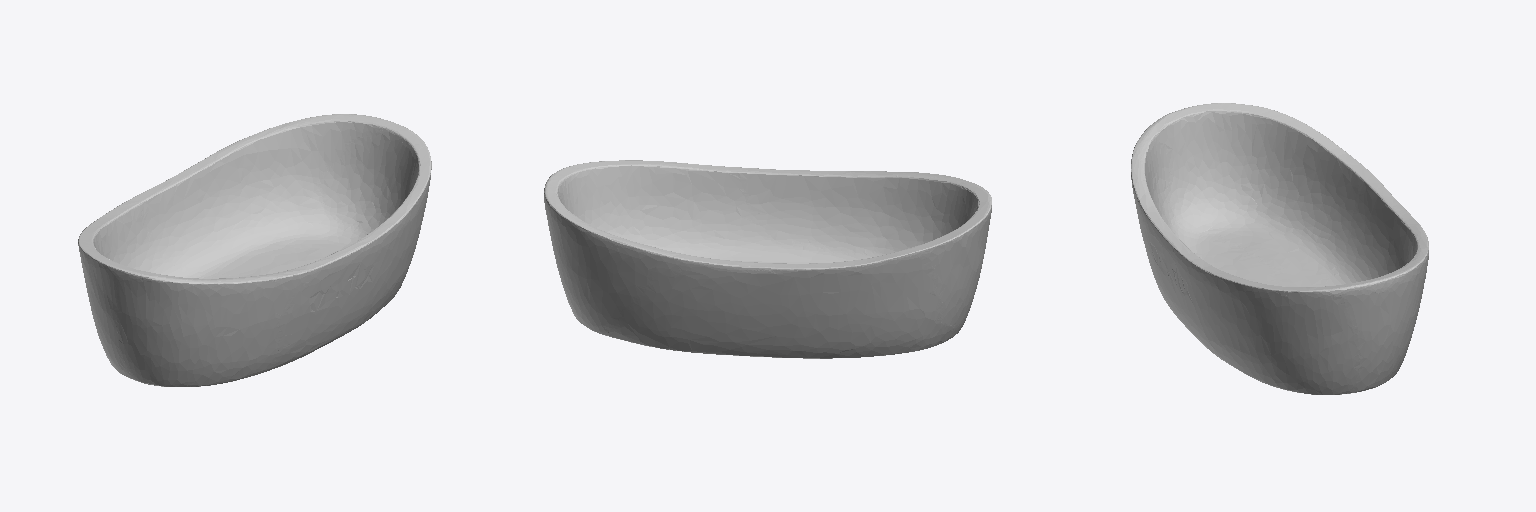
The picture shows the model from 3 angles: view 1: azimuth 30°, elevation 25°; view 2: azimuth 150°, elevation 25°; view 3: azimuth 270°, elevation 25°; orthographic projection.
Parts seen in each view (by area): view 1: [number redacted]_003_wan1; view 2: [number redacted]_003_wan1; view 3: [number redacted]_003_wan1.
Part boxes in pixels (x1,y1,x2,y2): [number redacted]_003_wan1: (78,114,431,386); [number redacted]_003_wan1: (544,160,991,358); [number redacted]_003_wan1: (1131,103,1428,394).
Bounding box in the file's own units: 0.143 × 0.0455 × 0.0986.